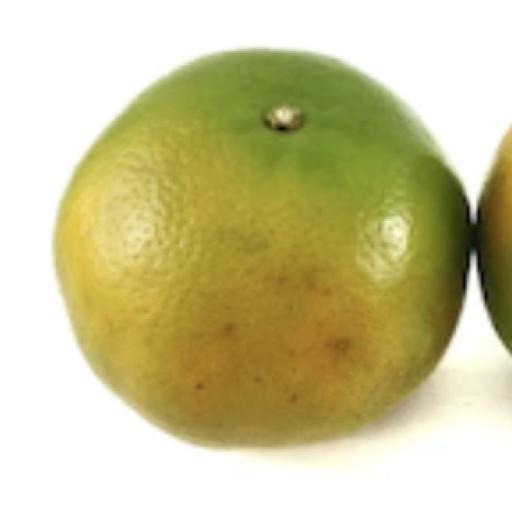orange: (55, 51, 468, 445)
